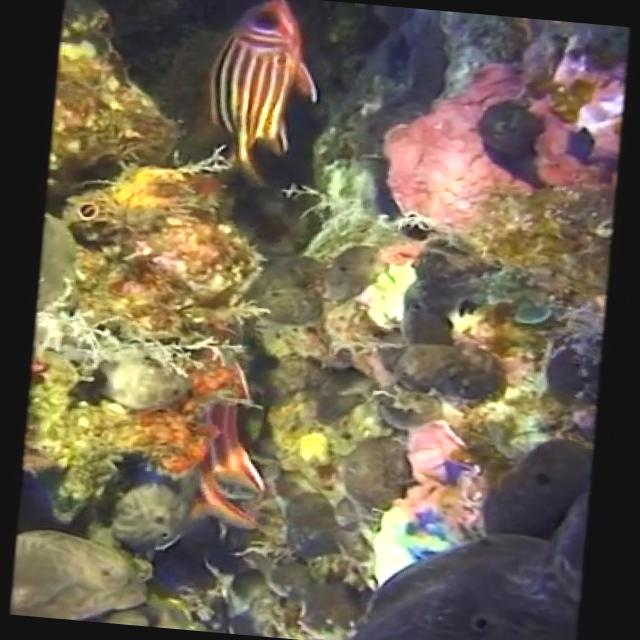Asker Baligi: (196, 0, 328, 192)
